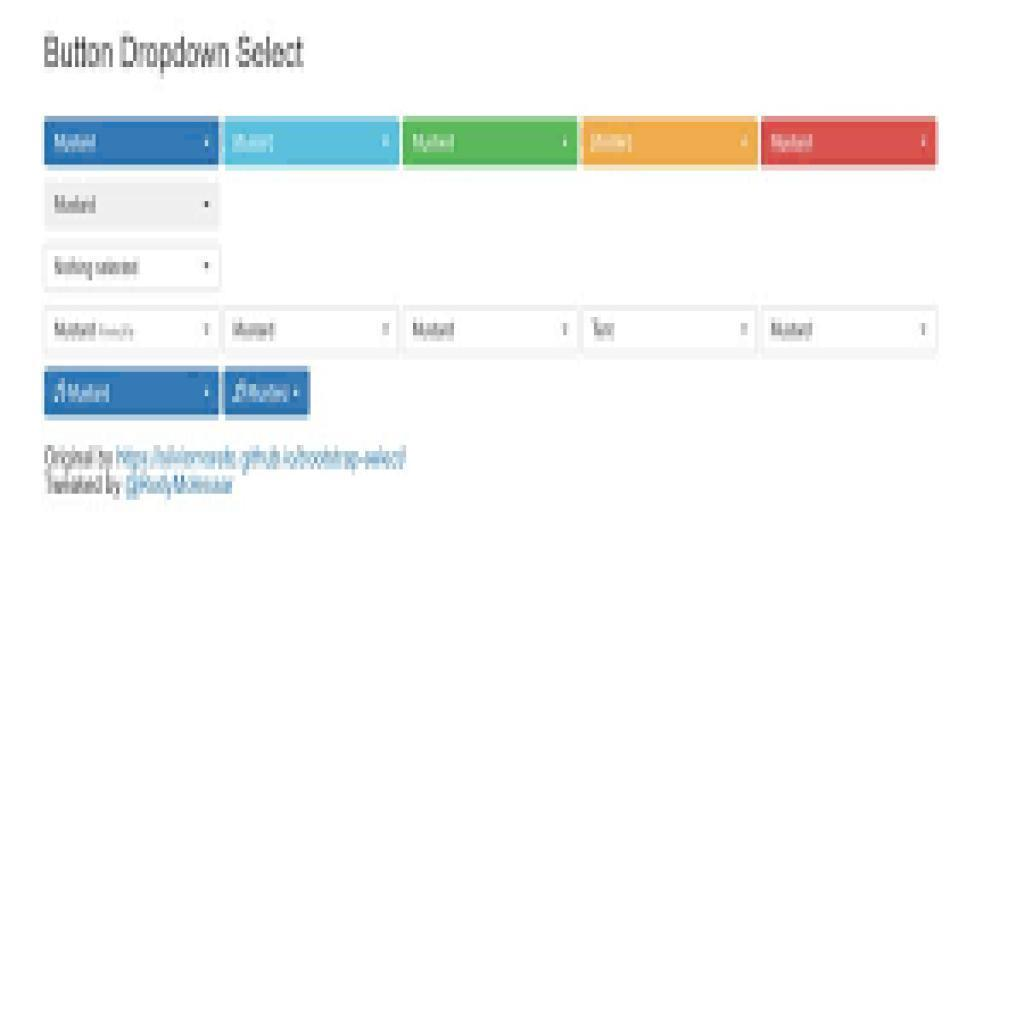dropdown: (42, 178, 220, 234), (224, 305, 398, 358), (403, 305, 577, 357), (46, 308, 219, 359), (766, 306, 940, 356), (583, 308, 757, 358), (42, 242, 222, 289)
